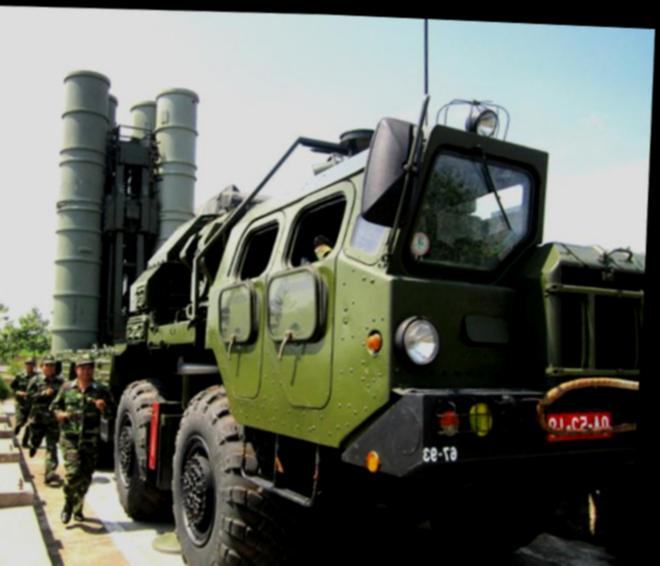License_Plate: (540, 401, 618, 446)
